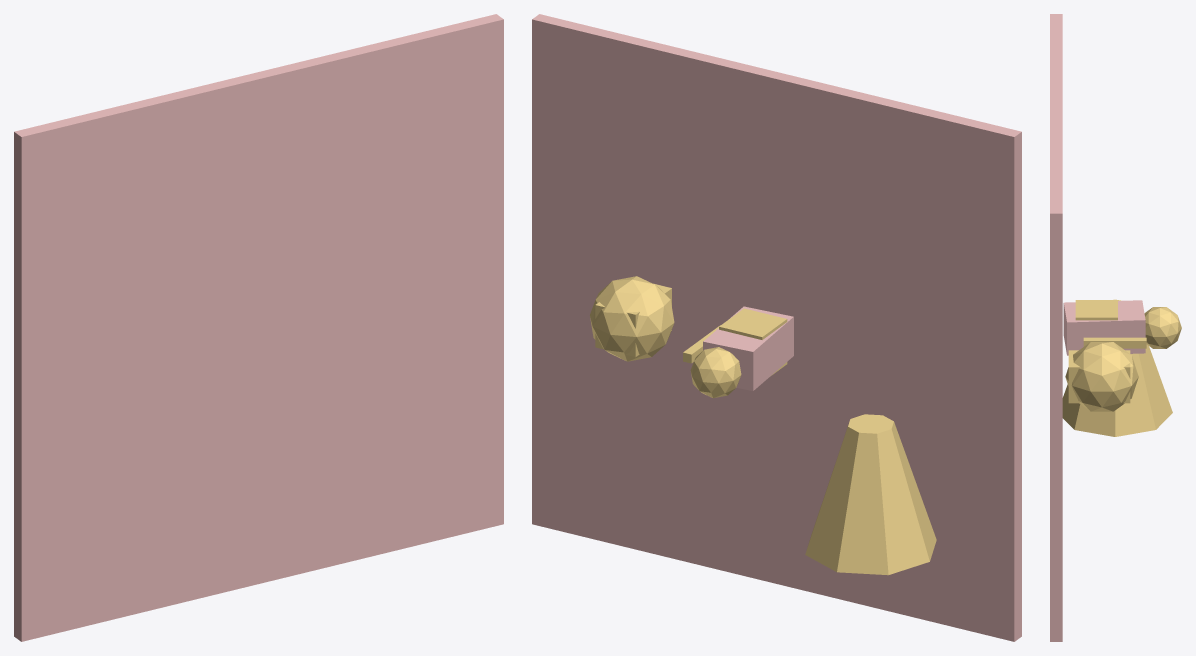
Rendered from midnight-detective-kit.glb.
The picture shows the model from 3 angles, left to right: view 1: azimuth 30°, elevation 25°; view 2: azimuth 150°, elevation 25°; view 3: azimuth 270°, elevation 25°; orthographic projection. The views are drawn at different scales.
Parts seen in each view (by area): view 1: ENVIRONMENT_GROUND; view 2: ENVIRONMENT_GROUND, ENVIRONMENT_LANDMARK, OBSTACLE, PLAYER_BODY, PLAYER_HEAD, PROFILE_PLAYER_DETAIL; view 3: ENVIRONMENT_GROUND, ENVIRONMENT_LANDMARK, OBSTACLE, PLAYER_BODY, PLAYER_HEAD, PROFILE_PLAYER_DETAIL, PROFILE_OBSTACLE_DETAIL, PLAYER_TOOL.
Part boxes in pixels (x1=…): ENVIRONMENT_GROUND: x1=14, y1=14, x2=503, y2=641; ENVIRONMENT_GROUND: x1=532, y1=14, x2=1021, y2=641; ENVIRONMENT_LANDMARK: x1=805, y1=414, x2=936, y2=575; OBSTACLE: x1=590, y1=276, x2=674, y2=361; PLAYER_BODY: x1=703, y1=306, x2=793, y2=390; PLAYER_HEAD: x1=690, y1=347, x2=741, y2=398; PROFILE_PLAYER_DETAIL: x1=719, y1=308, x2=787, y2=375; ENVIRONMENT_GROUND: x1=1050, y1=14, x2=1062, y2=641; ENVIRONMENT_LANDMARK: x1=1062, y1=299, x2=1172, y2=436; OBSTACLE: x1=1065, y1=342, x2=1138, y2=411; PLAYER_BODY: x1=1063, y1=300, x2=1145, y2=355; PLAYER_HEAD: x1=1144, y1=307, x2=1181, y2=348; PROFILE_PLAYER_DETAIL: x1=1075, y1=300, x2=1117, y2=320; PROFILE_OBSTACLE_DETAIL: x1=1068, y1=350, x2=1130, y2=403; PLAYER_TOOL: x1=1083, y1=337, x2=1146, y2=348.
Size of what is drawn, in the model's own units: 9 by 9 by 2.51.
